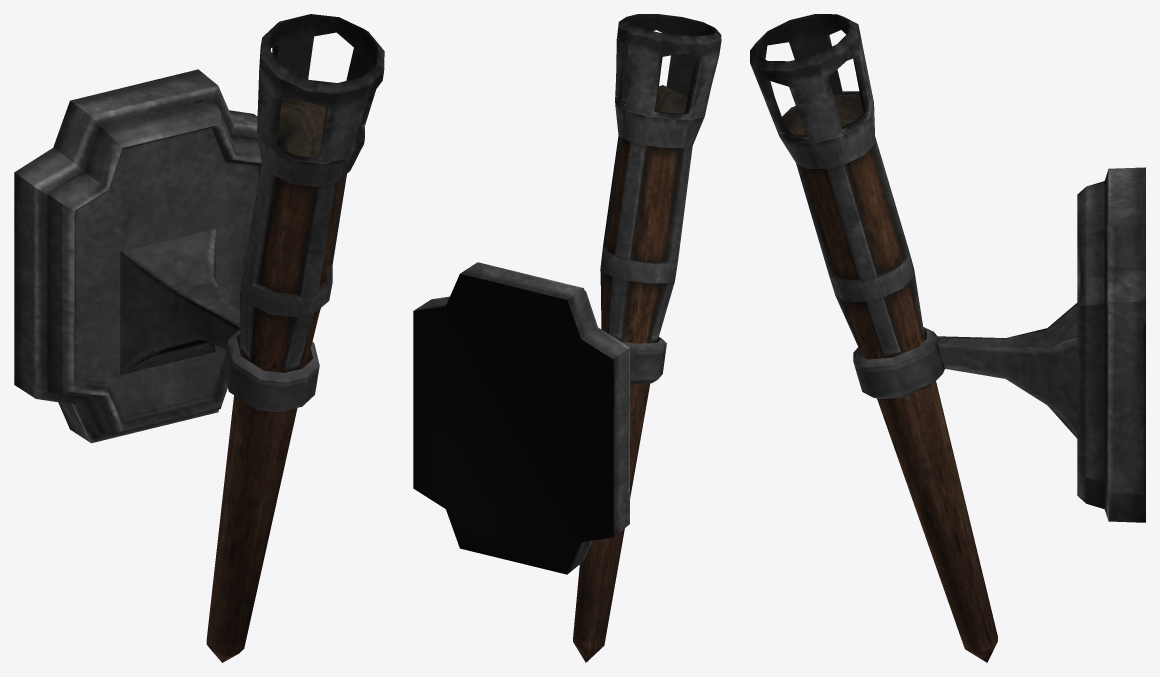
File: torch_sconce.FBX
3 views of the same model, side by side, from view 1: azimuth 30°, elevation 25°; view 2: azimuth 150°, elevation 25°; view 3: azimuth 270°, elevation 25° (orthographic). The views are drawn at different scales.
Parts seen in each view (by area): view 1: torch_sconce; view 2: torch_sconce; view 3: torch_sconce.
Boxes of the visible parts, x1,y1,x2,y2 form: torch_sconce: [14, 14, 384, 662]; torch_sconce: [413, 14, 721, 662]; torch_sconce: [750, 14, 1145, 662].
Size of the model in its own units: 0.4454 by 1.25 by 0.7016.
Materials: 1 (1 with a texture image).
